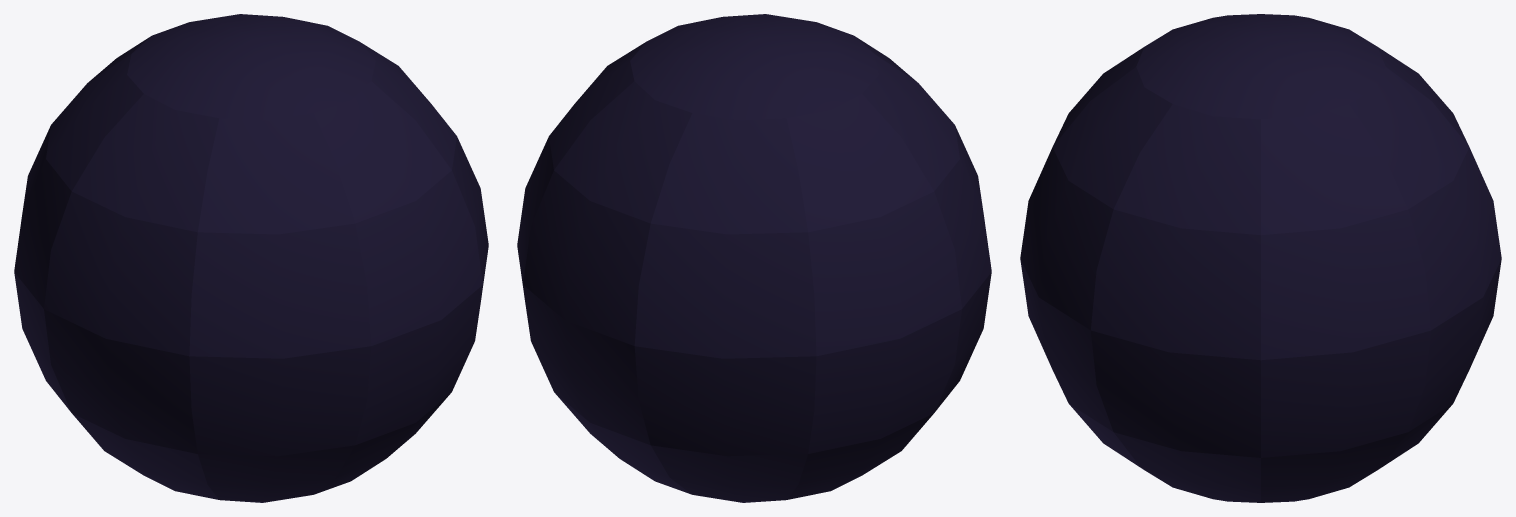
File: t2shell.fbx
3 views of the same model, side by side, from view 1: azimuth 30°, elevation 25°; view 2: azimuth 150°, elevation 25°; view 3: azimuth 270°, elevation 25° (orthographic).
Parts seen in each view (by area): view 1: Sphere; view 2: Sphere; view 3: Sphere.
Part boxes in pixels (box(x1,y1,x2,y2)): Sphere: box(14, 14, 488, 502); Sphere: box(517, 14, 991, 502); Sphere: box(1020, 14, 1501, 502).
Size of the model in its own units: 60.34 by 61.39 by 60.34.
